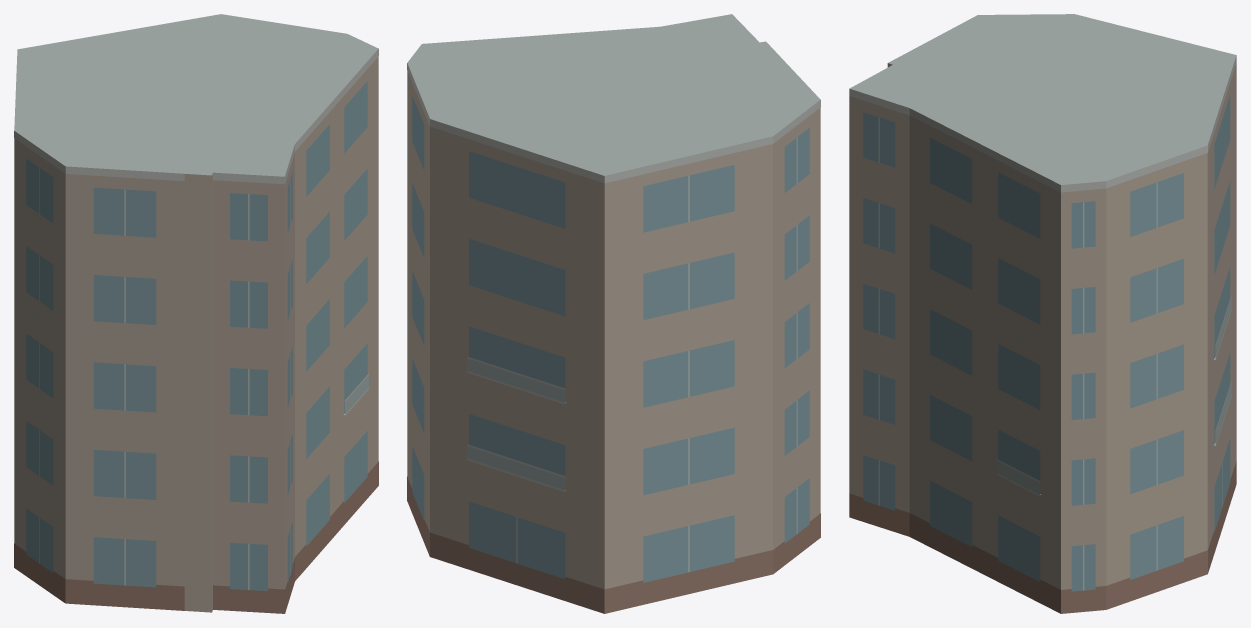
File: survey-upis-32917940.glb
The picture shows the model from 3 angles, left to right: view 1: azimuth 30°, elevation 25°; view 2: azimuth 150°, elevation 25°; view 3: azimuth 270°, elevation 25°; orthographic projection. The views are drawn at different scales.
Parts seen in each view (by area): view 1: survey-upis-32917940.tmp; view 2: survey-upis-32917940.tmp; view 3: survey-upis-32917940.tmp.
Boxes of the visible parts, x1,y1,x2,y2 form: survey-upis-32917940.tmp: (14, 14, 378, 613); survey-upis-32917940.tmp: (407, 14, 820, 613); survey-upis-32917940.tmp: (849, 14, 1236, 613).
Size of the model in its own units: 12.17 by 14.2 by 11.63.
